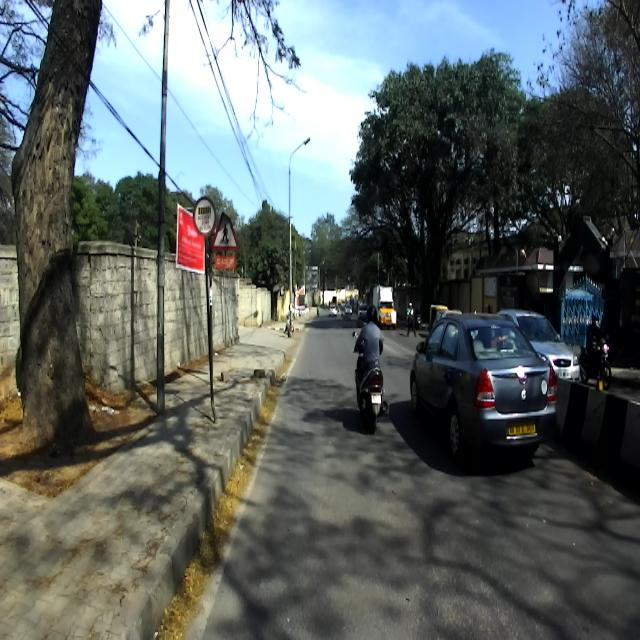car ahead at: (410, 312, 558, 491)
motorcycle ahead at: (352, 356, 389, 431)
sign board ahead at: (196, 196, 240, 260)
